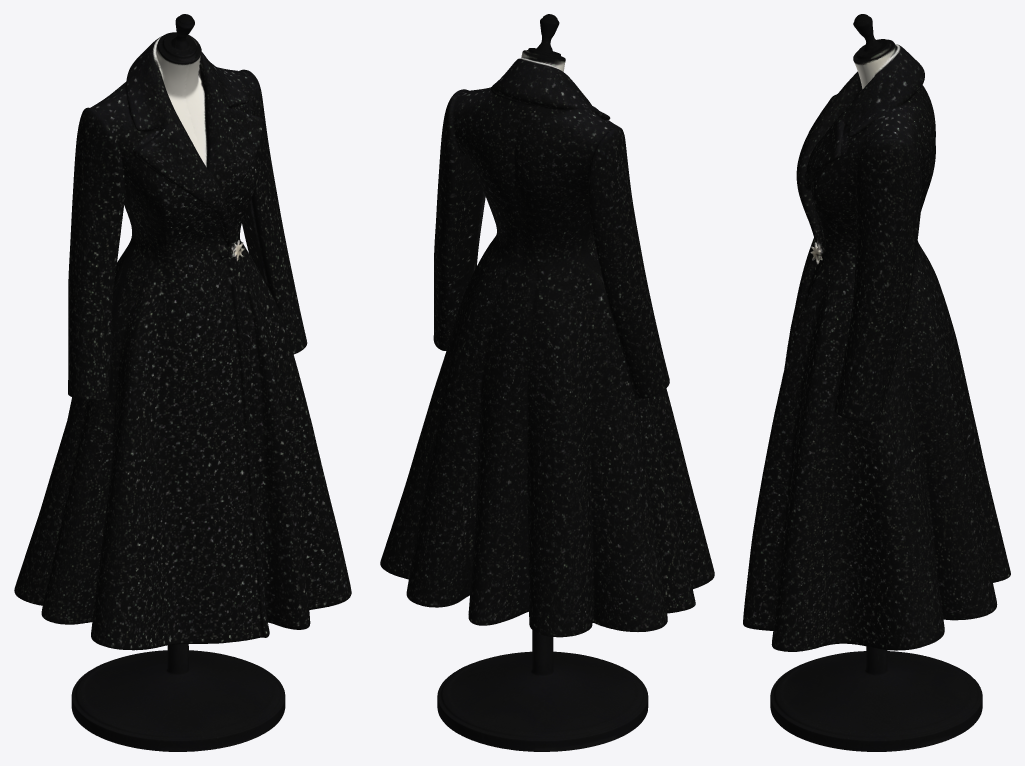
3 views of the same model, side by side, from view 1: azimuth 30°, elevation 25°; view 2: azimuth 150°, elevation 25°; view 3: azimuth 270°, elevation 25° (orthographic).
Bounding box in the file's own units: 0.8161 × 1.9 × 0.6661.
1 material, 1 textured.
